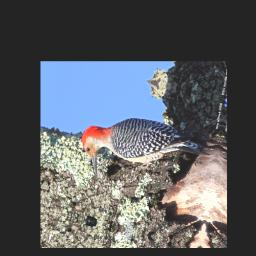Woodpecker: (75, 103, 213, 199)
